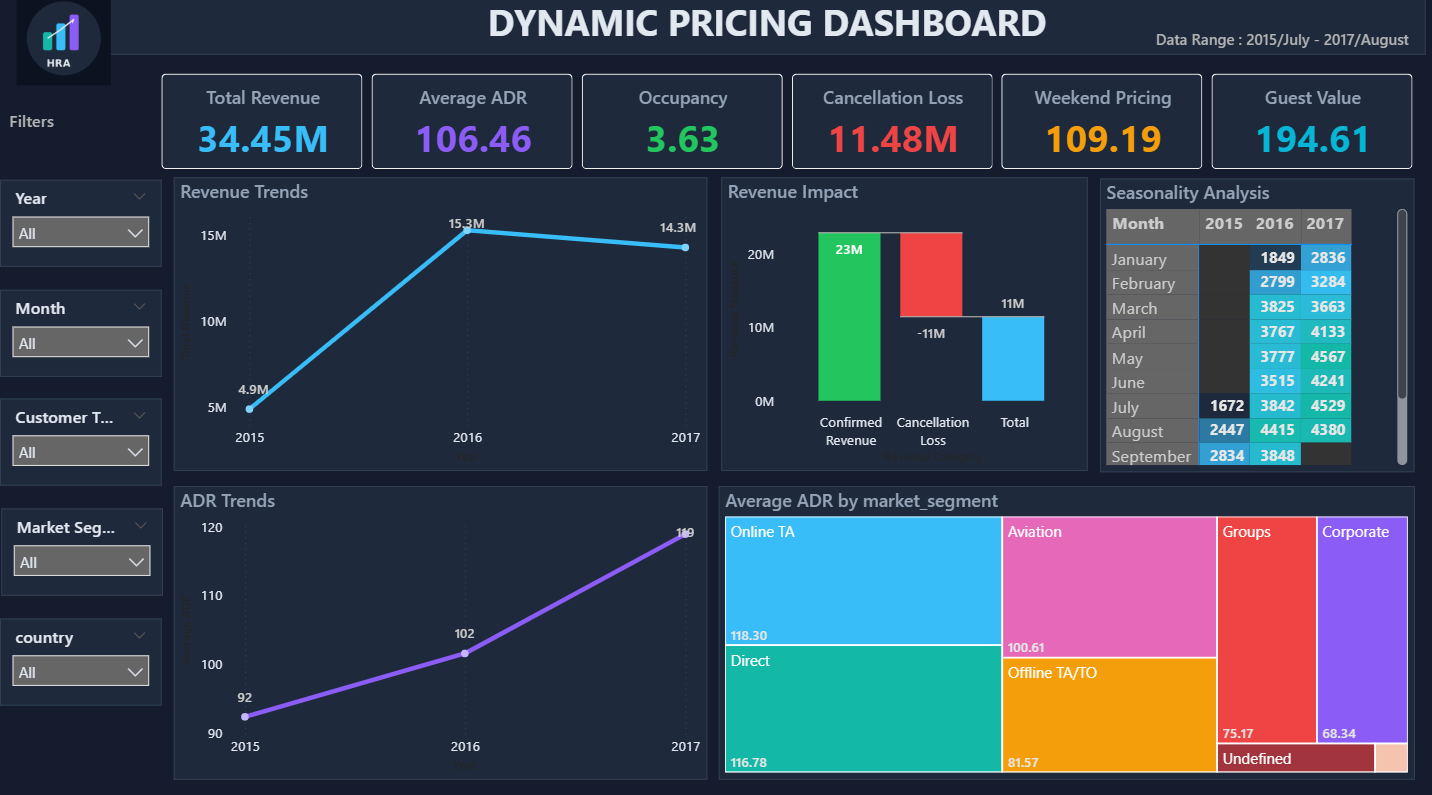

The page's visual inventory and layout, read from the dashboard file:
{"tool":"powerbi","page":{"name":"Dynamic Pricing Dashboard","canvas":[1280,720],"ordinal":1},"visuals":[{"type":"cardVisual","fields":{"Data":["Measures (2).Total Revenue","Measures (2).Average ADR","Measures (2).Occupancy Rate","Measures (2).Cancellation Revenue Loss","Measures (2).Weekend ADR","Measures (2).Revenue Per Guest"]},"box":[126.4,56.4,1153.4,119],"z":0},{"type":"textbox","box":[96.9,0,1173,56.4],"z":1000},{"type":"lineChart","title":"Revenue Trends","fields":{"Category":["dimdate.Date.Variation.Date Hierarchy.Year","dimdate.Date.Variation.Date Hierarchy.Quarter","dimdate.Date.Variation.Date Hierarchy.Month","dimdate.Date.Variation.Date Hierarchy.Day"],"Y":["Measures (2).Total Revenue"]},"box":[155,166.2,475,261.2],"z":2000},{"type":"textbox","box":[3.8,100,126.2,47.5],"z":3000},{"type":"slicer","fields":{"Values":["cleaned_hotel_bookings.arrival_date_year"]},"box":[0,167.8,143.8,77.5],"z":4000},{"type":"slicer","fields":{"Values":["dimdate.Month_name"]},"box":[0,265.5,143.8,77.5],"z":5000},{"type":"slicer","fields":{"Values":["cleaned_hotel_bookings.Customer Type"]},"box":[0,363.2,143.8,77.5],"z":6000},{"type":"slicer","fields":{"Values":["cleaned_hotel_bookings.market_segment"]},"box":[1.2,461,143.8,77.5],"z":7000},{"type":"slicer","fields":{"Values":["cleaned_hotel_bookings.country"]},"box":[0,558.8,143.8,77.5],"z":8000},{"type":"textbox","box":[1018.8,28.8,241.2,27.5],"z":9000},{"type":"lineChart","title":"ADR Trends","fields":{"Category":["dimdate.Date.Variation.Date Hierarchy.Year","dimdate.Date.Variation.Date Hierarchy.Quarter","dimdate.Date.Variation.Date Hierarchy.Month","dimdate.Date.Variation.Date Hierarchy.Day"],"Y":["Measures (2).Average ADR"]},"box":[155,441.2,475,261.2],"z":10000},{"type":"waterfallChart","title":"Revenue Impact","fields":{"Category":["Category.Category"],"Y":["Measures (2).Revenue Measure"]},"box":[642.5,166.2,326.2,261.2],"z":11000},{"type":"pivotTable","title":"Seasonality Analysis","fields":{"Rows":["dimdate.Month_name"],"Columns":["cleaned_hotel_bookings.arrival_date_year"],"Values":["Measures (2).Total_Bookings"]},"box":[980,167.5,280,261.2],"z":12000},{"type":"treemap","fields":{"Values":["Measures (2).Average ADR"],"Group":["cleaned_hotel_bookings.market_segment"]},"box":[640,441.2,620,261.2],"z":13000},{"type":"image","box":[1.2,0,111.2,83.8],"z":14000}]}

Visuals, with their boxes in screenshot pixels (x1, y1, x2, y2), scaled from the page's 1280x720 canvas onto the 1432x795 screenshot:
cardVisual - Measures (2).Total Revenue x Measures (2).Average ADR: x1=141, y1=62, x2=1431, y2=194
textbox: x1=108, y1=0, x2=1421, y2=62
"Revenue Trends" lineChart: x1=173, y1=184, x2=705, y2=472
textbox: x1=4, y1=110, x2=145, y2=163
slicer - cleaned_hotel_bookings.arrival_date_year: x1=0, y1=185, x2=161, y2=271
slicer - dimdate.Month_name: x1=0, y1=293, x2=161, y2=379
slicer - cleaned_hotel_bookings.Customer Type: x1=0, y1=401, x2=161, y2=487
slicer - cleaned_hotel_bookings.market_segment: x1=1, y1=509, x2=162, y2=595
slicer - cleaned_hotel_bookings.country: x1=0, y1=617, x2=161, y2=703
textbox: x1=1140, y1=32, x2=1410, y2=62
"ADR Trends" lineChart: x1=173, y1=487, x2=705, y2=776
"Revenue Impact" waterfallChart: x1=719, y1=184, x2=1084, y2=472
"Seasonality Analysis" pivotTable: x1=1096, y1=185, x2=1410, y2=473
treemap - Measures (2).Average ADR x cleaned_hotel_bookings.market_segment: x1=716, y1=487, x2=1410, y2=776
image: x1=1, y1=0, x2=126, y2=93
